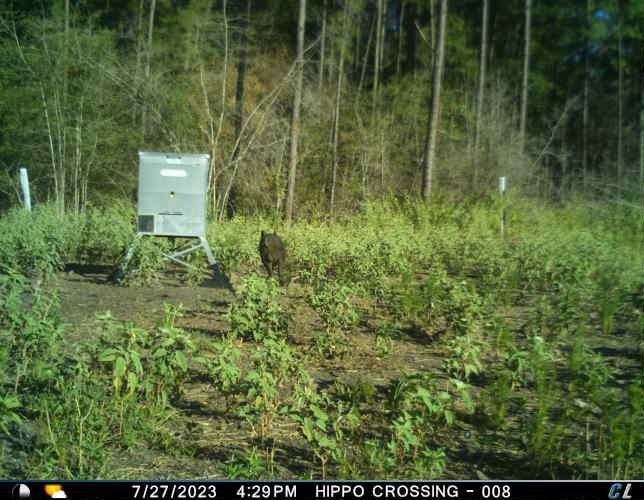Hog: (256, 227, 291, 287)
